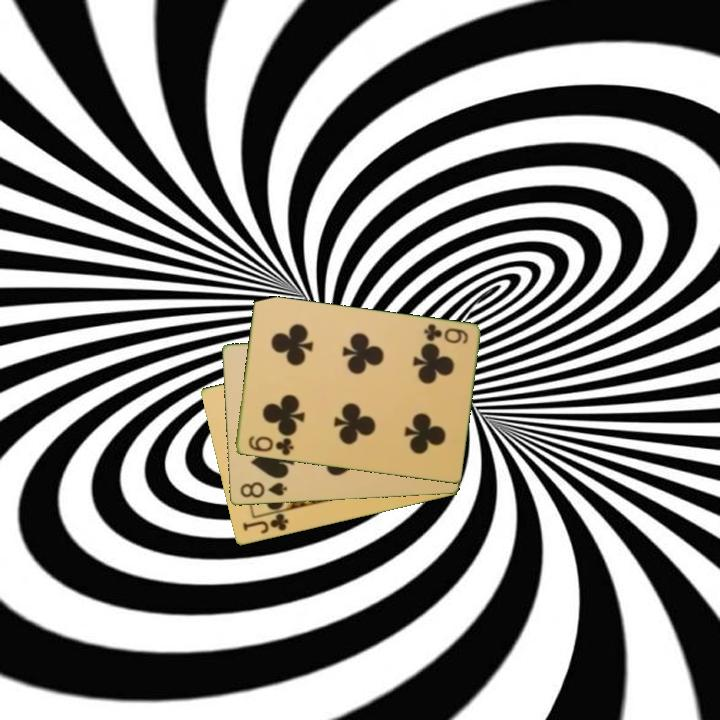6c: (420, 320, 471, 347), (245, 432, 296, 458)
8s: (236, 479, 290, 501)
Jc: (239, 510, 291, 537)
